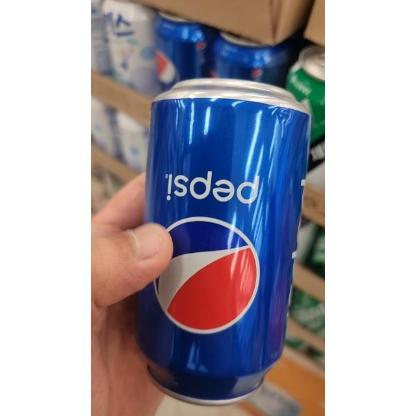Can: (135, 79, 311, 405)
